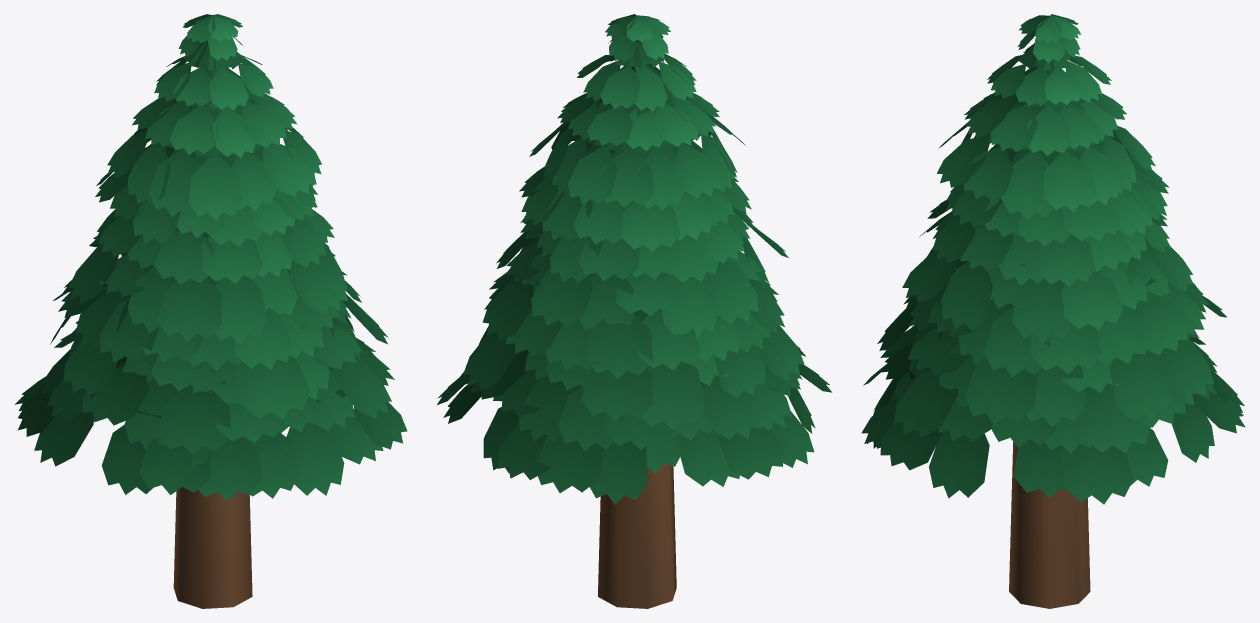
File: pine_paws_branches.gltf
3 views of the same model, side by side, from view 1: azimuth 30°, elevation 25°; view 2: azimuth 150°, elevation 25°; view 3: azimuth 270°, elevation 25° (orthographic).
Visible parts, largest first — view 1: pine_paws_branches; view 2: pine_paws_branches; view 3: pine_paws_branches.
Part boxes in pixels (left/top/right/bottom): pine_paws_branches: left=15, top=14, right=407, bottom=608; pine_paws_branches: left=437, top=14, right=831, bottom=608; pine_paws_branches: left=861, top=14, right=1245, bottom=608.
Bounding box in the file's own units: 5.22 × 8.34 × 5.04.
